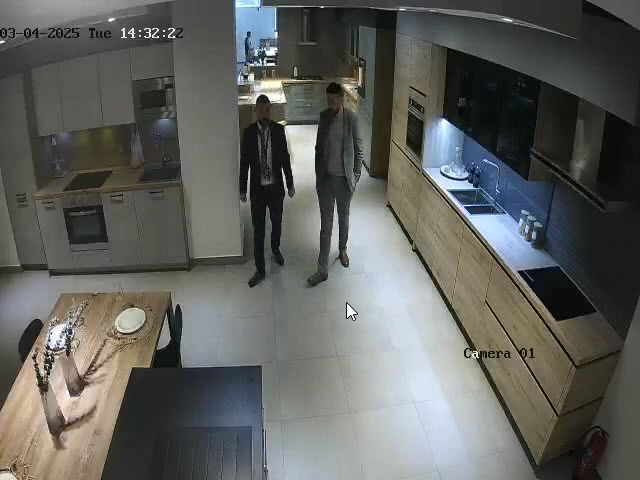employee: (306, 82, 364, 287), (239, 94, 296, 287)
